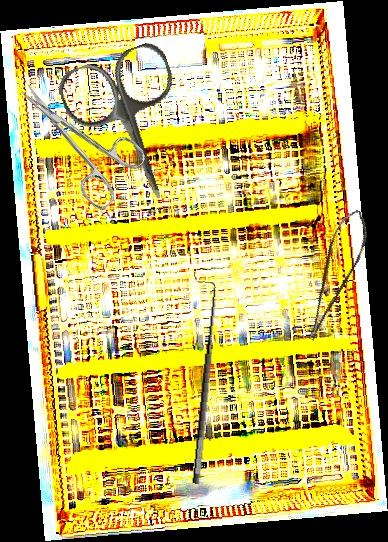Hook Surgical: (176, 280, 224, 485)
Iris Scissors: (53, 38, 211, 218), (0, 60, 154, 214)
Micro Scissor: (285, 205, 380, 343)
